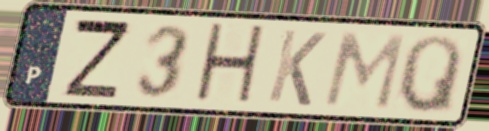3: (134, 22, 193, 101)
H: (190, 19, 270, 110)
K: (263, 26, 330, 109)
M: (319, 29, 409, 113)
Q: (394, 32, 466, 117)
Z: (61, 16, 134, 102)
